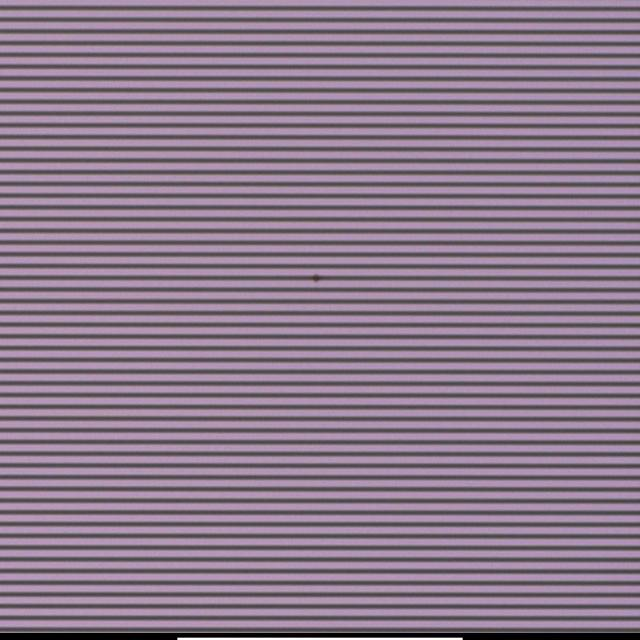nonvisual: (312, 267, 323, 287)
